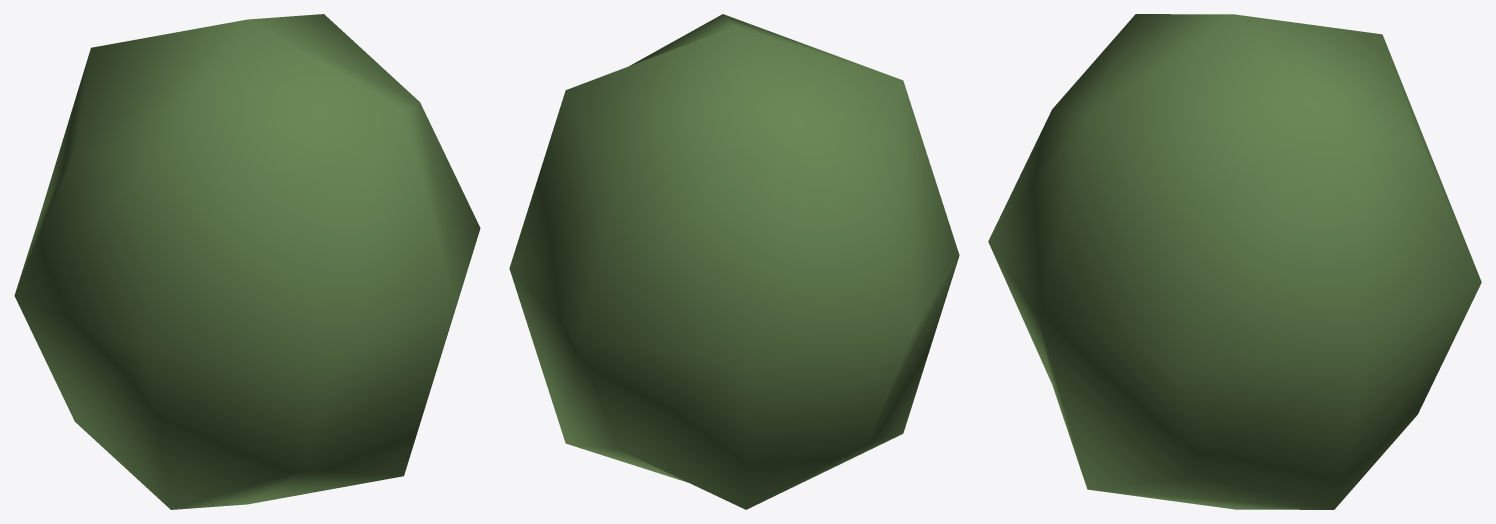
The model's file is atoll_Bush_02.fbx.
3 renders of one model, left to right at view 1: azimuth 30°, elevation 25°; view 2: azimuth 150°, elevation 25°; view 3: azimuth 270°, elevation 25°, orthographic. The views are drawn at different scales.
Parts seen in each view (by area): view 1: pCube3; view 2: pCube3; view 3: pCube3.
Part boxes in pixels (bbox=[...]): pCube3: bbox=[14, 14, 480, 509]; pCube3: bbox=[509, 14, 959, 509]; pCube3: bbox=[988, 14, 1481, 509].
Bounding box in the file's own units: 120 × 132 × 120.
